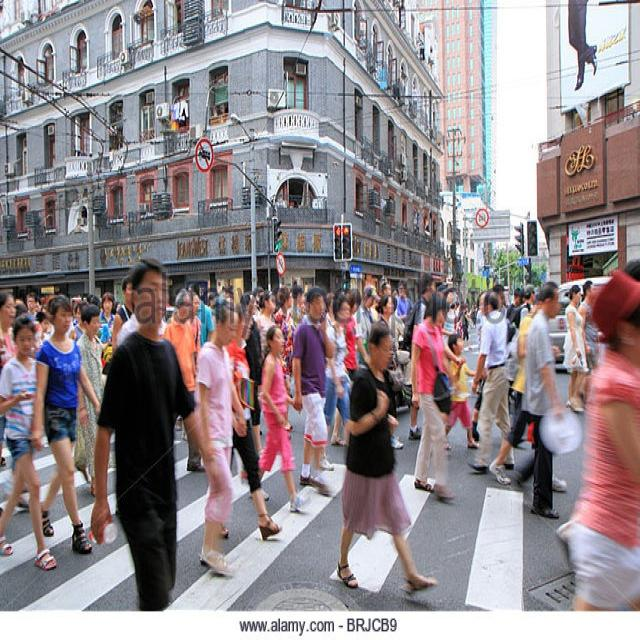body: (88, 251, 220, 638), (334, 316, 442, 598), (562, 265, 640, 613), (28, 291, 104, 558), (487, 288, 569, 494), (191, 295, 250, 581), (217, 305, 284, 544), (0, 312, 60, 574), (0, 284, 136, 382), (245, 322, 313, 516), (518, 279, 570, 520), (409, 289, 459, 503), (464, 285, 517, 477), (289, 285, 336, 501), (163, 285, 208, 474), (69, 299, 108, 503), (240, 327, 307, 438), (502, 276, 538, 452), (186, 280, 220, 462), (329, 284, 364, 448), (441, 329, 488, 451), (320, 292, 355, 450), (219, 281, 336, 328), (407, 272, 437, 442), (374, 292, 405, 450), (239, 291, 266, 461), (558, 0, 605, 92), (560, 281, 591, 414), (577, 279, 600, 411), (374, 280, 414, 350), (354, 282, 383, 368), (111, 272, 136, 354), (435, 278, 459, 345), (235, 464, 271, 508), (0, 471, 28, 523), (0, 290, 17, 370), (475, 288, 488, 391), (156, 296, 181, 342), (459, 296, 476, 354), (30, 412, 52, 451), (169, 411, 187, 454), (617, 256, 640, 286), (0, 408, 8, 473)
